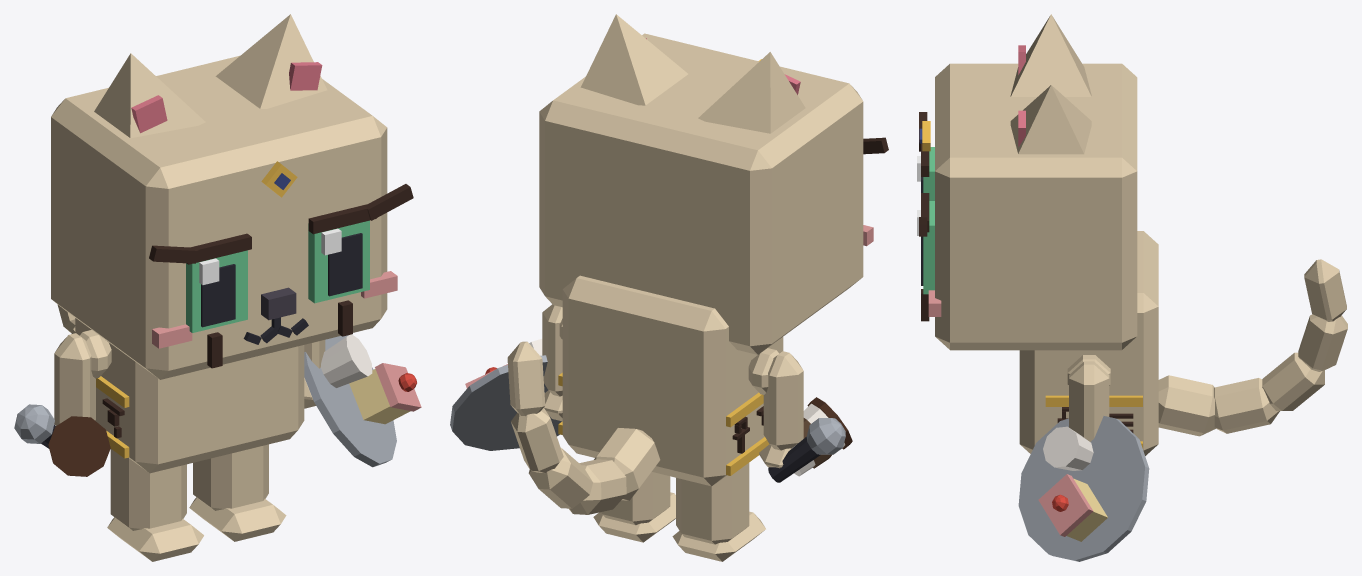
The model's file is CatCafe_Cat_Glyph_Work.fbx.
3 views of the same model, side by side, from view 1: azimuth 30°, elevation 25°; view 2: azimuth 150°, elevation 25°; view 3: azimuth 270°, elevation 25° (orthographic). The views are drawn at different scales.
Parts seen in each view (by area): view 1: CatCafe_Cat_Glyph_Work_Head, CatCafe_Cat_Glyph_Work_Body, CatCafe_Cat_Glyph_Work_Held_Waiter, CatCafe_Cat_Glyph_Work_LegB2, CatCafe_Cat_Glyph_Work_LegB1, CatCafe_Cat_Glyph_Work_EarL, CatCafe_Cat_Glyph_Work_Prop, CatCafe_Cat_Glyph_Work_EarR, CatCafe_Cat_Glyph_Work_Eye1, CatCafe_Cat_Glyph_Work_Eye2, CatCafe_Cat_Glyph_Work_LegF2, CatCafe_Cat_Glyph_Work_Held_Barista (+2 smaller); view 2: CatCafe_Cat_Glyph_Work_Head, CatCafe_Cat_Glyph_Work_Body, CatCafe_Cat_Glyph_Work_Tail, CatCafe_Cat_Glyph_Work_LegB2, CatCafe_Cat_Glyph_Work_EarL, CatCafe_Cat_Glyph_Work_EarR, CatCafe_Cat_Glyph_Work_Held_Waiter, CatCafe_Cat_Glyph_Work_LegF2, CatCafe_Cat_Glyph_Work_LegB1, CatCafe_Cat_Glyph_Work_Held_Entertainer, CatCafe_Cat_Glyph_Work_LegF1, CatCafe_Cat_Glyph_Work_Held_Barista; view 3: CatCafe_Cat_Glyph_Work_Head, CatCafe_Cat_Glyph_Work_Held_Waiter, CatCafe_Cat_Glyph_Work_Tail, CatCafe_Cat_Glyph_Work_Body, CatCafe_Cat_Glyph_Work_EarL, CatCafe_Cat_Glyph_Work_EarR, CatCafe_Cat_Glyph_Work_LegF1, CatCafe_Cat_Glyph_Work_Prop, CatCafe_Cat_Glyph_Work_Eye1, CatCafe_Cat_Glyph_Work_Eye2.
Part boxes in pixels (<box>): CatCafe_Cat_Glyph_Work_Head: <box>51,55,397,379</box>; CatCafe_Cat_Glyph_Work_Body: <box>75,318,304,473</box>; CatCafe_Cat_Glyph_Work_Held_Waiter: <box>304,334,421,467</box>; CatCafe_Cat_Glyph_Work_LegB2: <box>107,449,203,561</box>; CatCafe_Cat_Glyph_Work_LegB1: <box>189,444,286,541</box>; CatCafe_Cat_Glyph_Work_EarL: <box>215,14,327,108</box>; CatCafe_Cat_Glyph_Work_Prop: <box>149,161,413,368</box>; CatCafe_Cat_Glyph_Work_EarR: <box>94,53,205,138</box>; CatCafe_Cat_Glyph_Work_Eye1: <box>308,220,369,303</box>; CatCafe_Cat_Glyph_Work_Eye2: <box>186,250,247,332</box>; CatCafe_Cat_Glyph_Work_LegF2: <box>54,333,95,425</box>; CatCafe_Cat_Glyph_Work_Held_Barista: <box>48,416,110,476</box>; CatCafe_Cat_Glyph_Work_Head: <box>539,33,873,354</box>; CatCafe_Cat_Glyph_Work_Body: <box>558,275,783,486</box>; CatCafe_Cat_Glyph_Work_Tail: <box>507,341,660,514</box>; CatCafe_Cat_Glyph_Work_LegB2: <box>672,463,765,561</box>; CatCafe_Cat_Glyph_Work_EarL: <box>580,14,687,105</box>; CatCafe_Cat_Glyph_Work_EarR: <box>698,52,805,133</box>; CatCafe_Cat_Glyph_Work_Held_Waiter: <box>450,339,561,450</box>; CatCafe_Cat_Glyph_Work_LegF2: <box>759,351,803,468</box>; CatCafe_Cat_Glyph_Work_LegB1: <box>593,472,675,542</box>; CatCafe_Cat_Glyph_Work_Held_Entertainer: <box>768,418,845,482</box>; CatCafe_Cat_Glyph_Work_LegF1: <box>542,304,562,421</box>; CatCafe_Cat_Glyph_Work_Held_Barista: <box>793,397,852,476</box>; CatCafe_Cat_Glyph_Work_Head: <box>928,63,1137,350</box>; CatCafe_Cat_Glyph_Work_Held_Waiter: <box>1018,416,1149,561</box>; CatCafe_Cat_Glyph_Work_Tail: <box>1158,259,1347,436</box>; CatCafe_Cat_Glyph_Work_Body: <box>1019,231,1158,455</box>; CatCafe_Cat_Glyph_Work_EarL: <box>1010,85,1091,154</box>; CatCafe_Cat_Glyph_Work_EarR: <box>1010,14,1091,96</box>; CatCafe_Cat_Glyph_Work_LegF1: <box>1069,361,1109,441</box>; CatCafe_Cat_Glyph_Work_Prop: <box>919,112,930,321</box>; CatCafe_Cat_Glyph_Work_Eye1: <box>917,201,934,294</box>; CatCafe_Cat_Glyph_Work_Eye2: <box>917,147,934,200</box>.
Bounding box in the file's own units: 1.53 × 1.93 × 1.62.
Materials: 1 (1 with a texture image).
